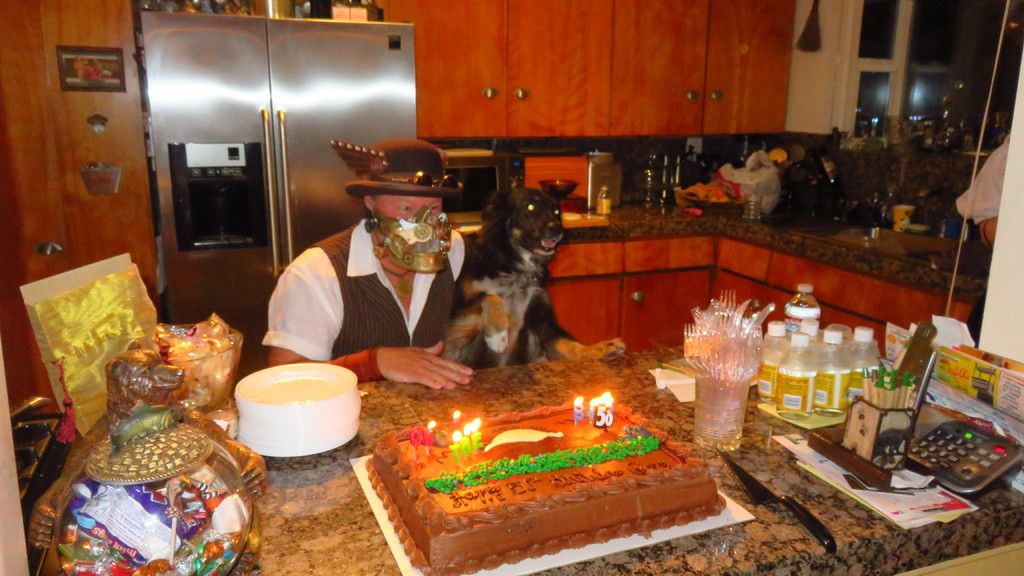cake: (362, 388, 725, 575)
